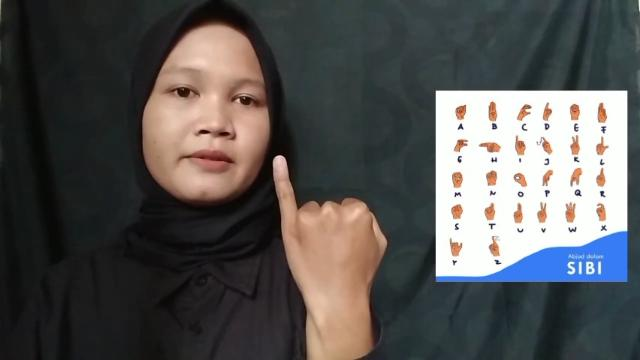J: (270, 154, 390, 288)
